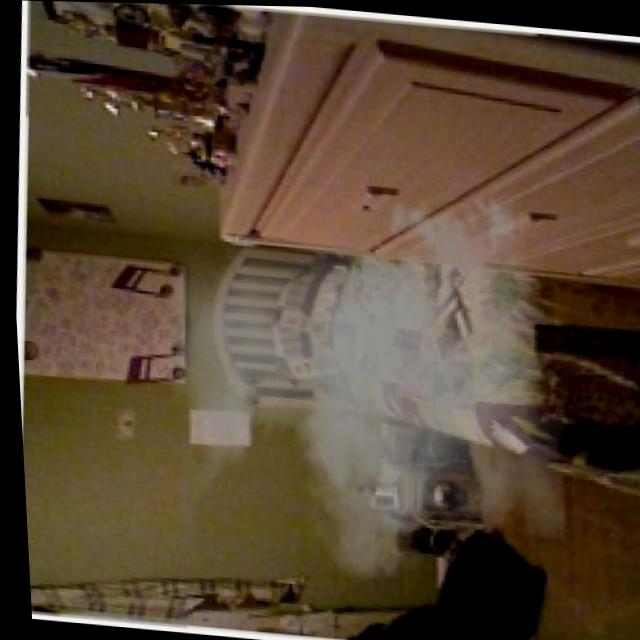no_helmet: (157, 152, 570, 611)
